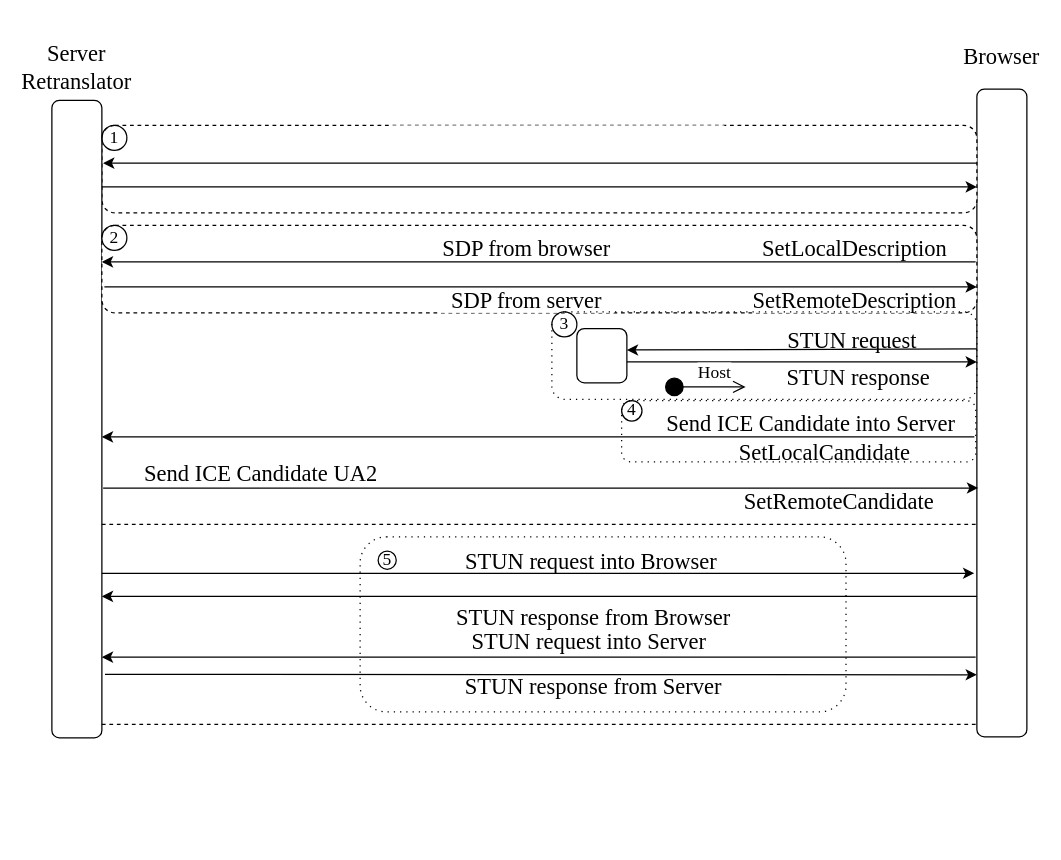
Some shapes in this 1061 by 860 pixel diagram are drawn without their labels. The shapes that lost their labels are listed below. From the top down, each one's centre as x and y in pixels, then its label:
At (556,143): "Connect with host switch camera".
At (556,174): "OK".
At (601,355): "STUN Server".
